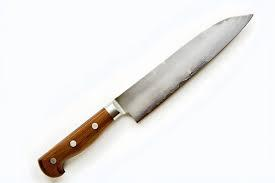Knife: (37, 12, 253, 177)
